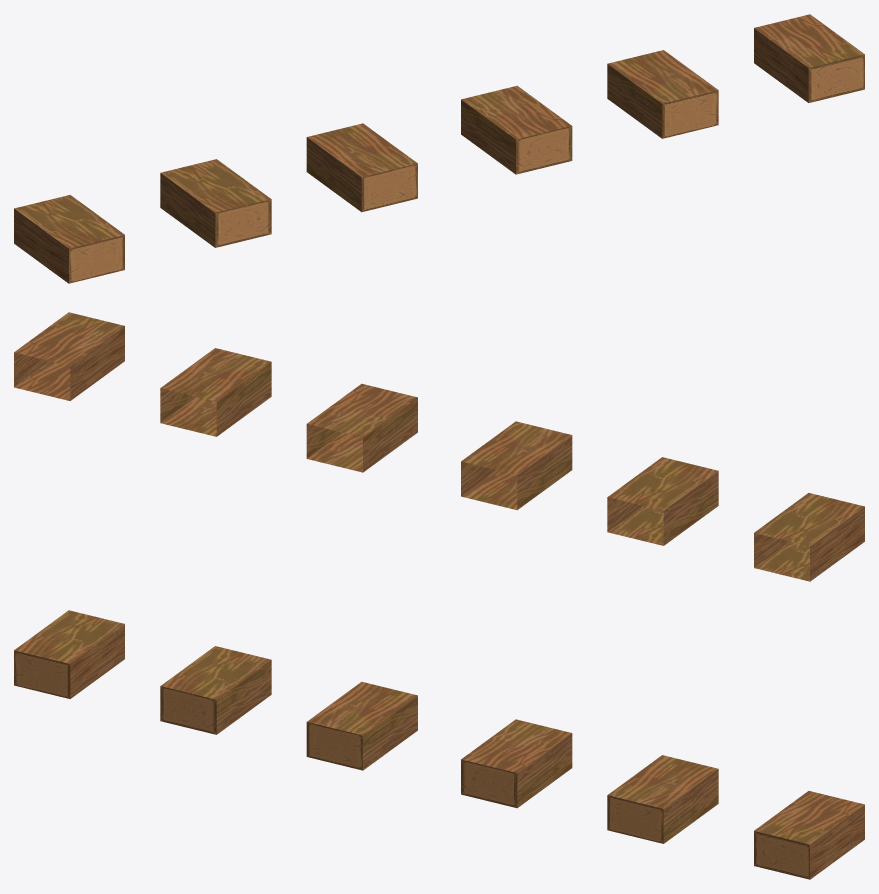
Rendered from roof-qm-rooffrontsupports.glb.
The picture shows the model from 3 angles, top to bottom: view 1: azimuth 30°, elevation 25°; view 2: azimuth 150°, elevation 25°; view 3: azimuth 330°, elevation 25°; orthographic projection.
Parts seen in each view (by area): view 1: Cube_108; view 2: Cube_108; view 3: Cube_108.
Part boxes in pixels (<box>): Cube_108: <box>14,14,864,283</box>; Cube_108: <box>14,312,864,581</box>; Cube_108: <box>14,610,864,879</box>.
Bounding box in the file's own units: 5.49 × 0.2312 × 0.6545.
Materials: 1 (1 with a texture image).
